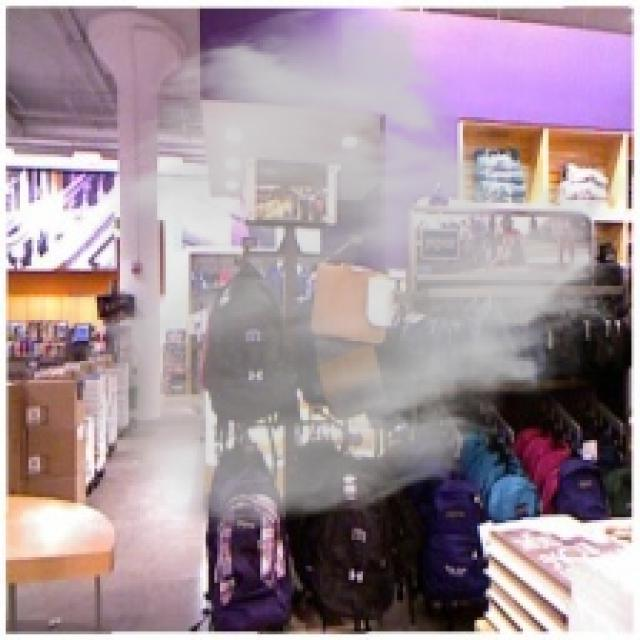Smoke: (68, 3, 634, 540)
